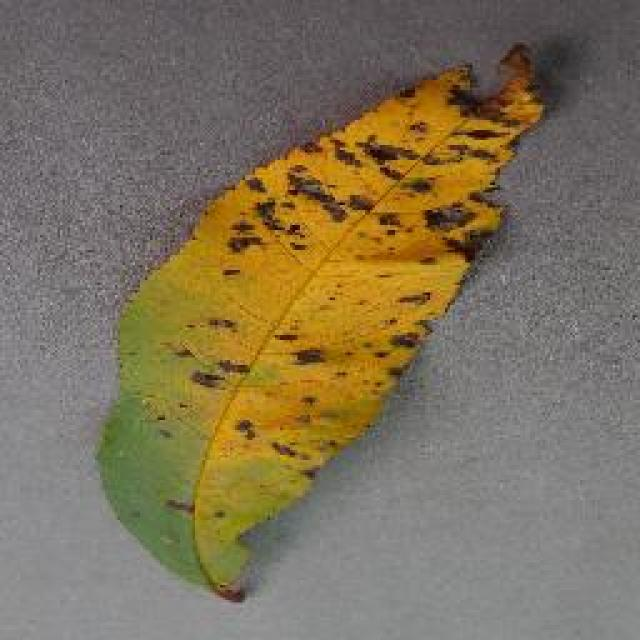Peach_Bacterial_Spot: (210, 93, 480, 495)
